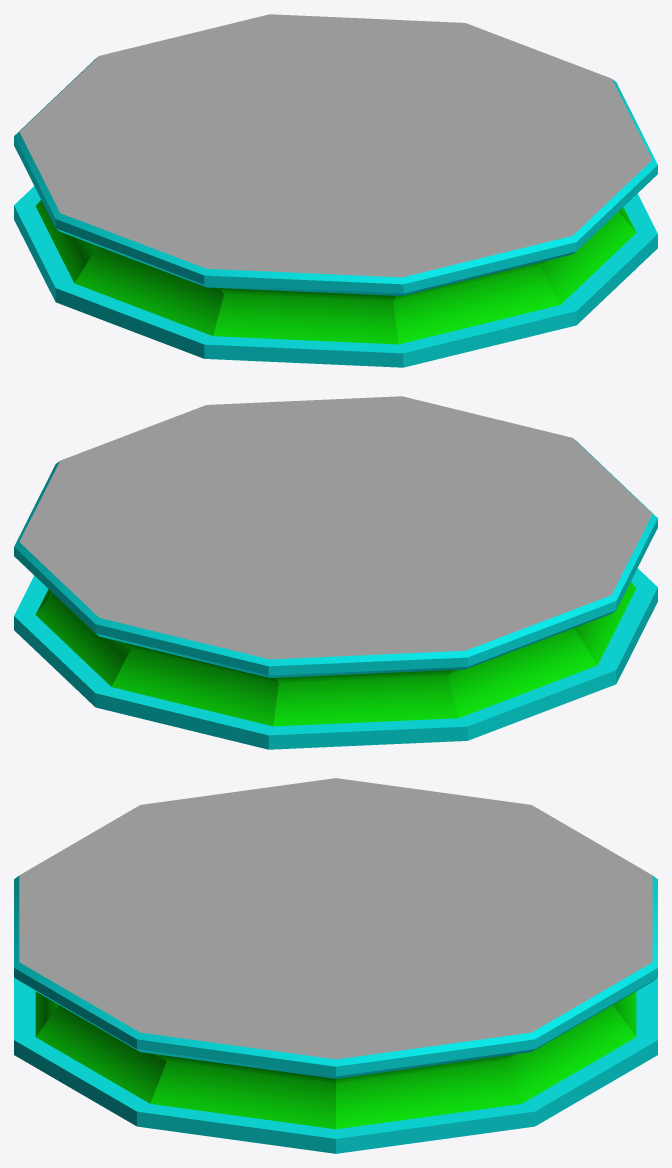
Rendered from piattaformaLR.fbx.
3 views of the same model, one above another, from view 1: azimuth 30°, elevation 25°; view 2: azimuth 150°, elevation 25°; view 3: azimuth 270°, elevation 25° (orthographic). The views are drawn at different scales.
Parts seen in each view (by area): view 1: piattaformaLR; view 2: piattaformaLR; view 3: piattaformaLR.
Part boxes in pixels (x1,y1,x2,y2): piattaformaLR: (14,14,657,367); piattaformaLR: (14,396,657,749); piattaformaLR: (14,778,657,1153).
Size of the model in its own units: 200 by 30 by 190.
